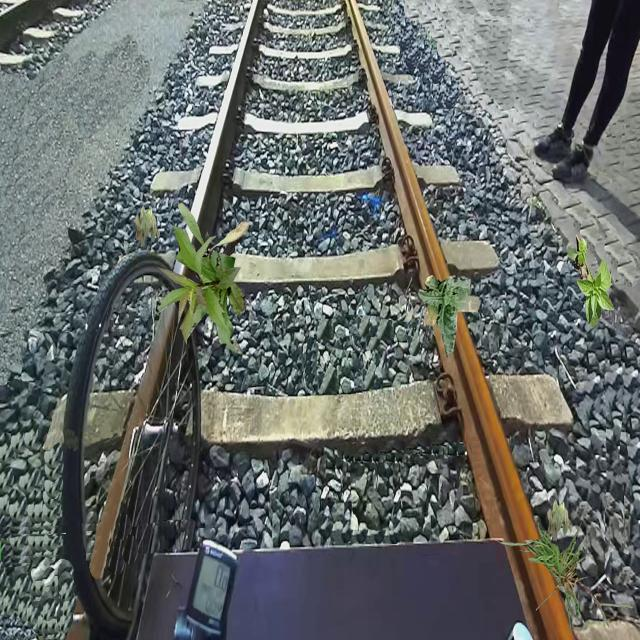Plant: (490, 519, 634, 638), (156, 225, 244, 355), (178, 203, 250, 302), (418, 275, 482, 358), (567, 234, 615, 329), (547, 499, 573, 542), (135, 205, 161, 248)
